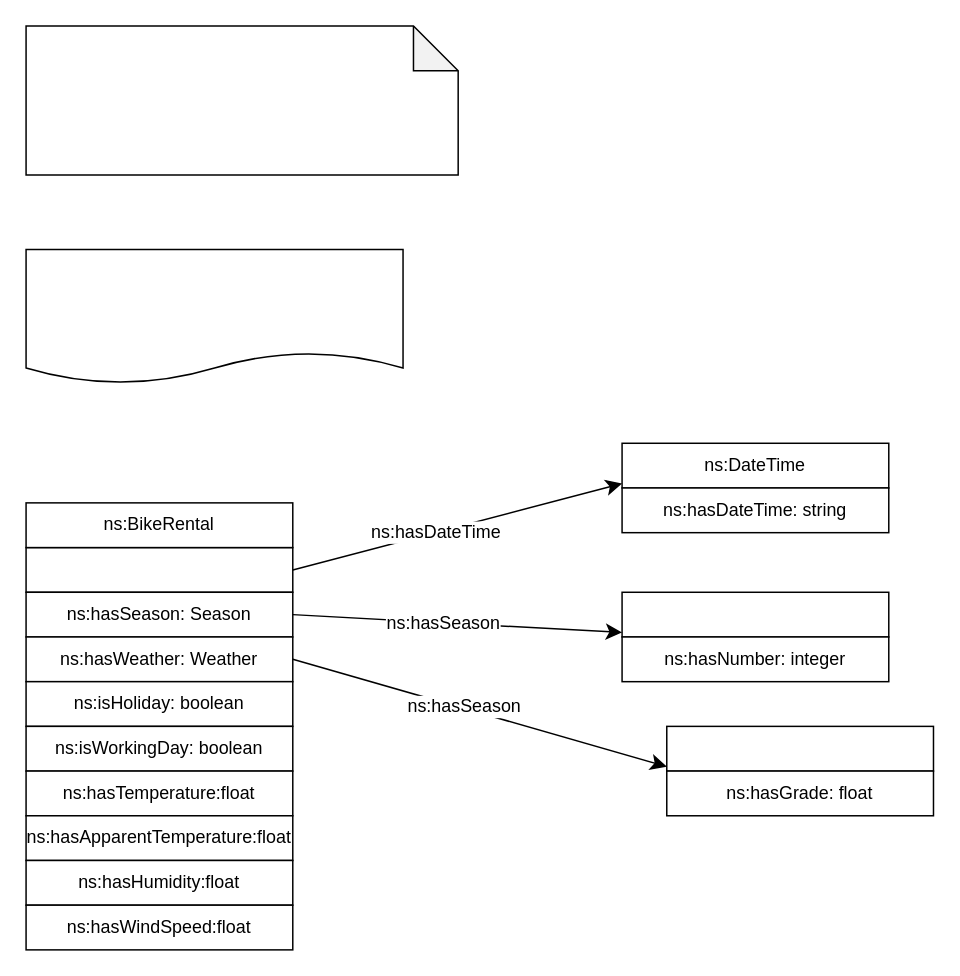
This 960x976 diagram has some shape labels left out. The box of each missing label's shape, as (x1, y1, x2, y2) in pixels:
dc:creator: Group09 owl:versionInfo: 0.0.1 dc:title: H02: (25, 248, 403, 384)
ns : http://bikesharingsystem.linkeddata.org/bsh/ontology/BikeSharing: (25, 25, 458, 175)
ns:hasDateTime: DateTime: (25, 546, 293, 592)
ns:Season: (621, 591, 889, 637)
ns:Weather: (665, 725, 933, 771)
